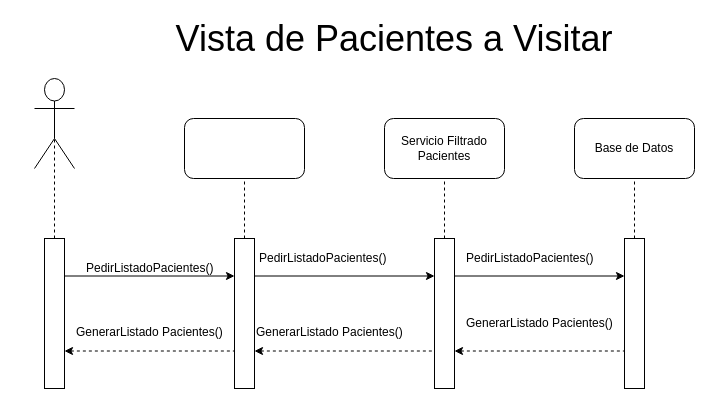
Some shapes in this 712 by 406 pixel diagram are drawn without their labels. The shapes that lost their labels are listed below. From the top down, each one's centre as x and y in pixels, then its label:
the point at 54,123: Administrador
the point at 244,148: Plataforma Web
